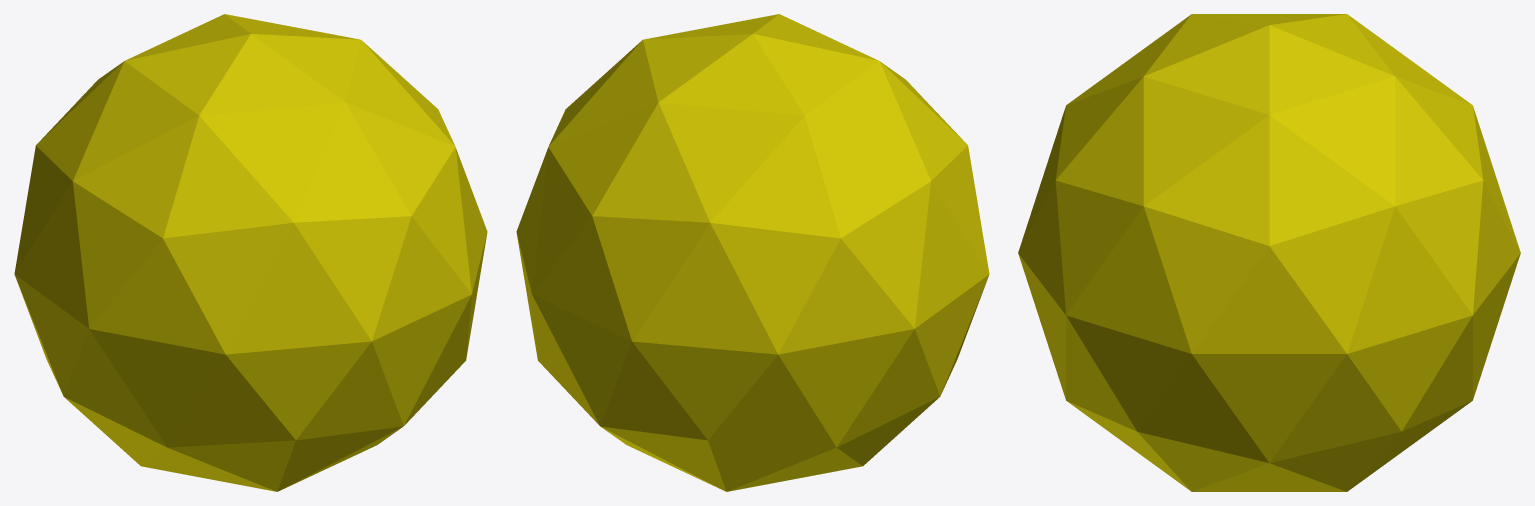
3 views of the same model, side by side, from view 1: azimuth 30°, elevation 25°; view 2: azimuth 150°, elevation 25°; view 3: azimuth 270°, elevation 25° (orthographic). The views are drawn at different scales.
Visible parts, largest first — view 1: Icosphere; view 2: Icosphere; view 3: Icosphere.
Part boxes in pixels (bbox=[...]): Icosphere: bbox=[14, 14, 487, 491]; Icosphere: bbox=[516, 14, 989, 491]; Icosphere: bbox=[1018, 14, 1520, 491].
Bounding box in the file's own units: 6.36 × 6.69 × 6.69.
